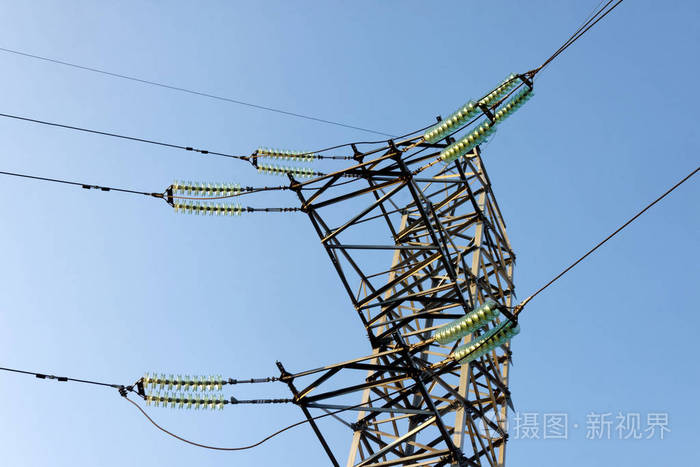insulator: (434, 304, 520, 368), (426, 104, 492, 161), (141, 372, 228, 412), (169, 177, 244, 214), (256, 146, 317, 178), (487, 79, 533, 118)
